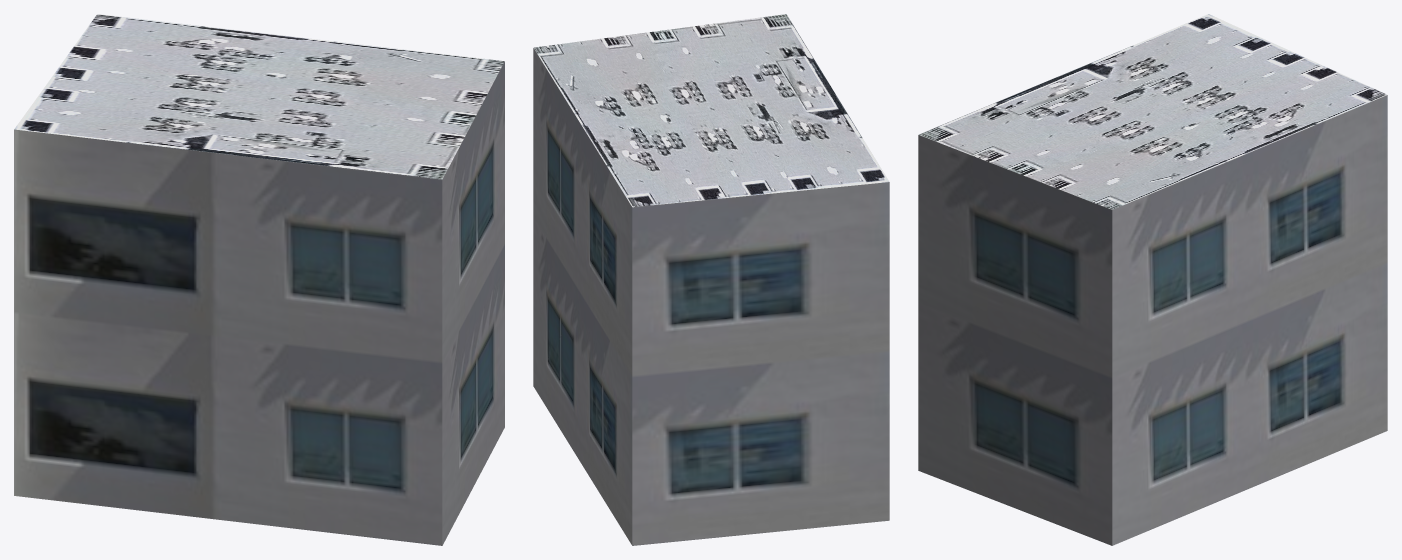
File: ResTex__4280.fbx
The picture shows the model from 3 angles, left to right: view 1: azimuth 30°, elevation 25°; view 2: azimuth 150°, elevation 25°; view 3: azimuth 270°, elevation 25°; orthographic projection. The views are drawn at different scales.
Parts seen in each view (by area): view 1: CityEngineMaterial_10_m, CityEngineMaterial_4_m; view 2: CityEngineMaterial_10_m, CityEngineMaterial_4_m; view 3: CityEngineMaterial_10_m, CityEngineMaterial_4_m.
Boxes of the visible parts, x1,y1,x2,y2 form: CityEngineMaterial_10_m: (14, 61, 504, 545); CityEngineMaterial_4_m: (14, 14, 504, 179); CityEngineMaterial_10_m: (533, 48, 889, 545); CityEngineMaterial_4_m: (533, 14, 889, 207); CityEngineMaterial_10_m: (918, 95, 1387, 545); CityEngineMaterial_4_m: (918, 14, 1387, 209).
Size of the model in its own units: 7.51 by 6 by 7.6.
2 materials, 2 textured.
